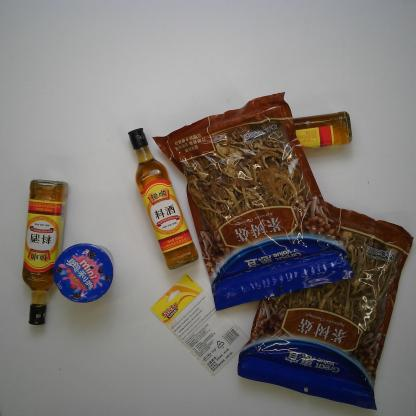Dessert: (50, 241, 116, 304)
Dried Food: (149, 90, 357, 316), (235, 199, 414, 415)
Seasoner: (124, 126, 200, 272), (20, 177, 71, 327), (288, 110, 354, 151)
Stationery: (149, 271, 251, 378)
